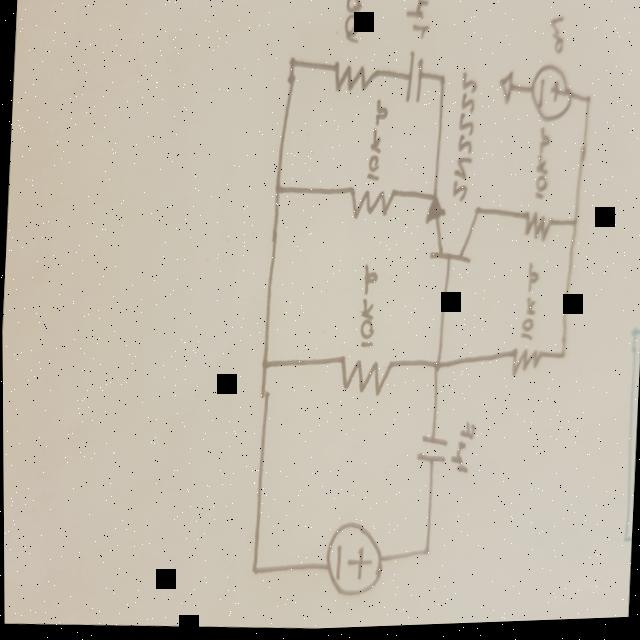capacitor: (403, 51, 424, 112), (413, 437, 447, 470)
ground: (496, 73, 514, 111)
junction: (429, 362, 442, 377), (286, 57, 297, 74), (257, 359, 269, 374), (271, 184, 282, 200), (248, 565, 259, 579), (419, 547, 430, 561), (436, 76, 447, 89), (571, 221, 578, 232), (584, 100, 591, 110), (558, 355, 565, 365)
resistor: (336, 354, 392, 404), (345, 186, 395, 229), (331, 63, 378, 100), (507, 349, 541, 384), (520, 212, 552, 248)
source: (321, 519, 387, 606), (527, 67, 573, 130)
text: (445, 68, 480, 204), (353, 263, 381, 355), (364, 101, 390, 187), (517, 263, 539, 349), (447, 416, 476, 481), (532, 131, 552, 209), (406, 0, 438, 44), (341, 0, 364, 51), (544, 13, 566, 63)
transistor: (421, 191, 481, 272)
